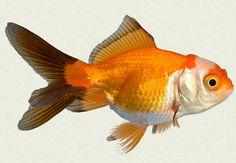goldfish: (41, 35, 234, 138)
